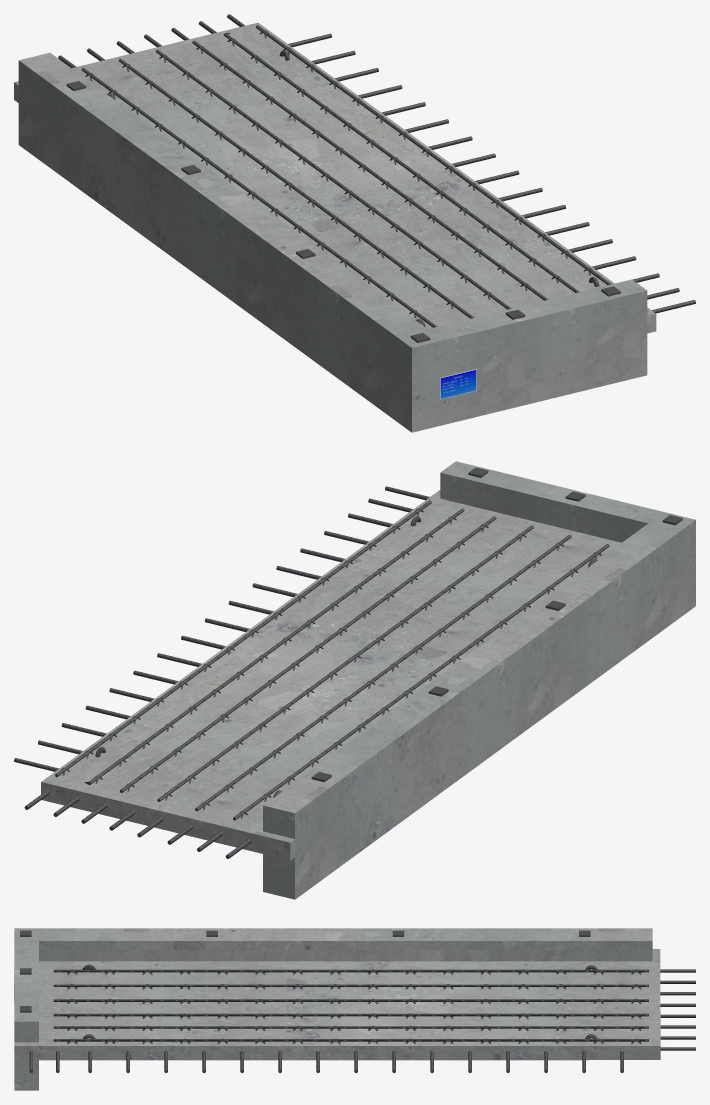
File: 叠合阳台.fbx
3 renders of one model, top to bottom at view 1: azimuth 30°, elevation 25°; view 2: azimuth 150°, elevation 25°; view 3: azimuth 270°, elevation 25°, orthographic. The views are drawn at different scales.
Parts seen in each view (by area): view 1: pasted__dieheyangtai_diaozhuang; view 2: pasted__dieheyangtai_diaozhuang; view 3: pasted__dieheyangtai_diaozhuang.
Part boxes in pixels (x1,y1,x2,y2): pasted__dieheyangtai_diaozhuang: [14, 14, 695, 432]; pasted__dieheyangtai_diaozhuang: [14, 461, 695, 899]; pasted__dieheyangtai_diaozhuang: [14, 928, 695, 1090].
Size of the model in its own units: 155 by 43.93 by 385.
